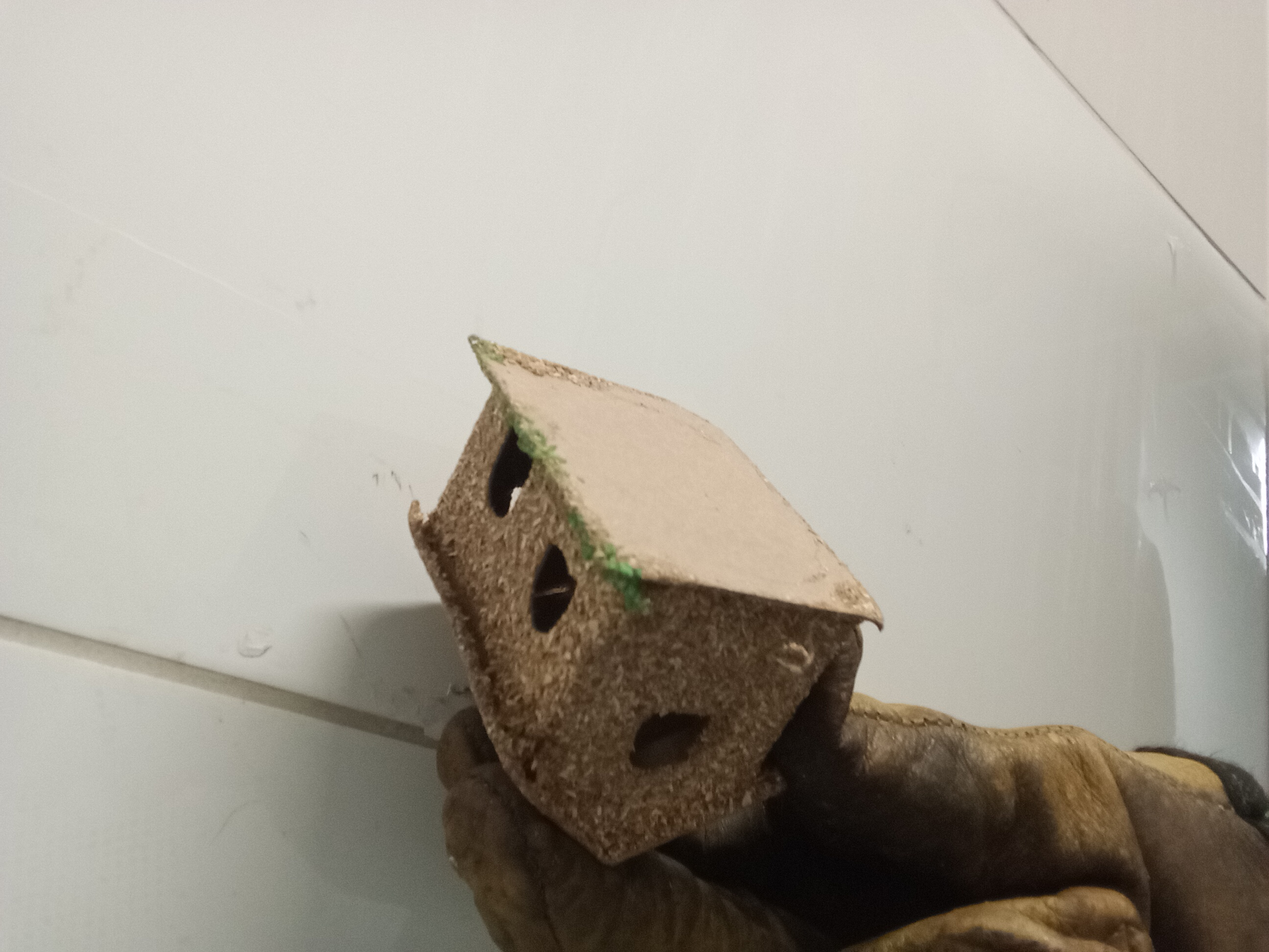Ordinario: (409, 336, 885, 870)
